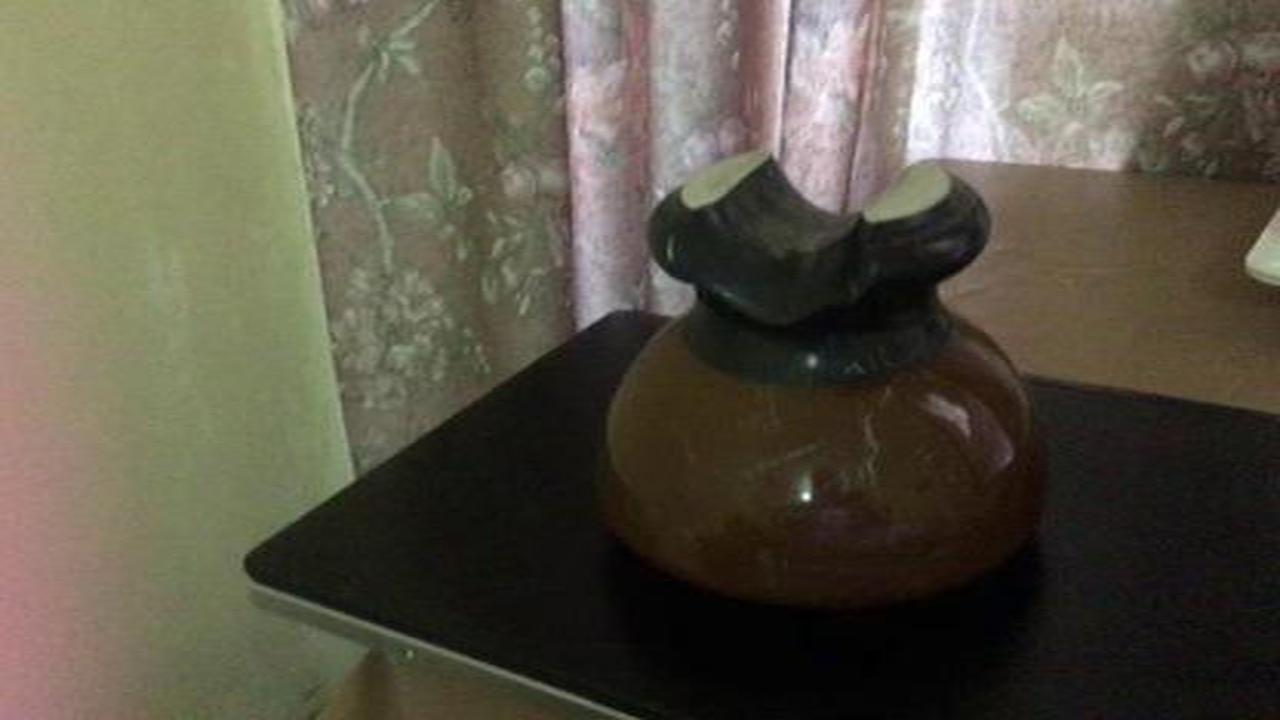insulator_pin: (594, 134, 1056, 611)
